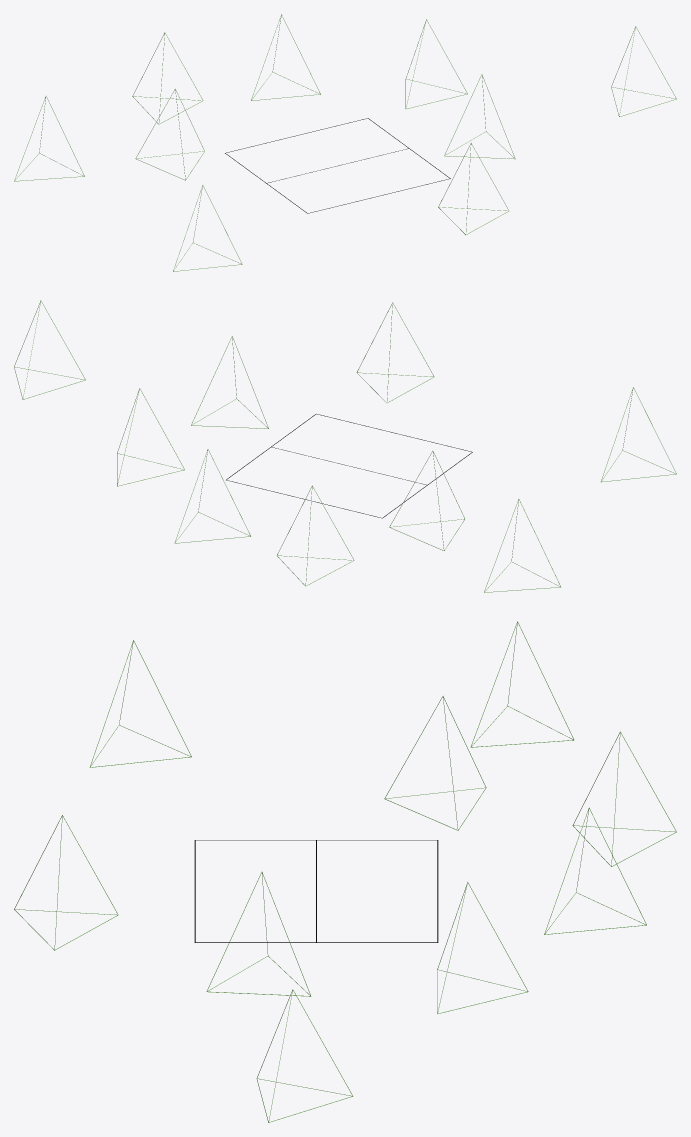
3 renders of one model, top to bottom at view 1: azimuth 30°, elevation 25°; view 2: azimuth 150°, elevation 25°; view 3: azimuth 270°, elevation 25°, orthographic. The views are drawn at different scales.
Parts seen in each view (by area): view 1: Cube; view 2: Cube; view 3: Cube.
Boxes of the visible parts, x1,y1,x2,y2 form: Cube: (225,118,450,213); Cube: (226,414,472,518); Cube: (194,840,438,942).
Bounding box in the file's own units: 8.13 × 1 × 5.46.
